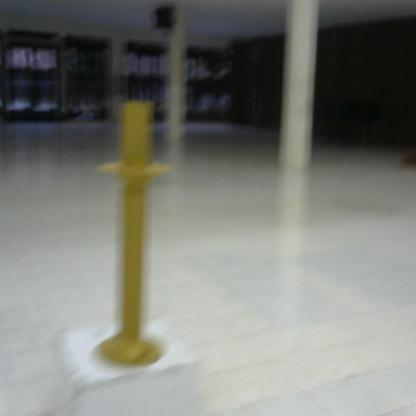pole: (93, 91, 171, 377)
